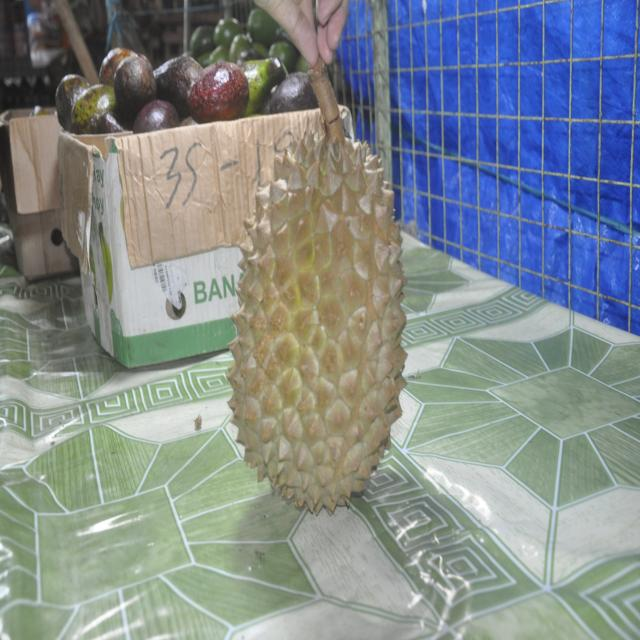mature: (228, 60, 407, 514)
